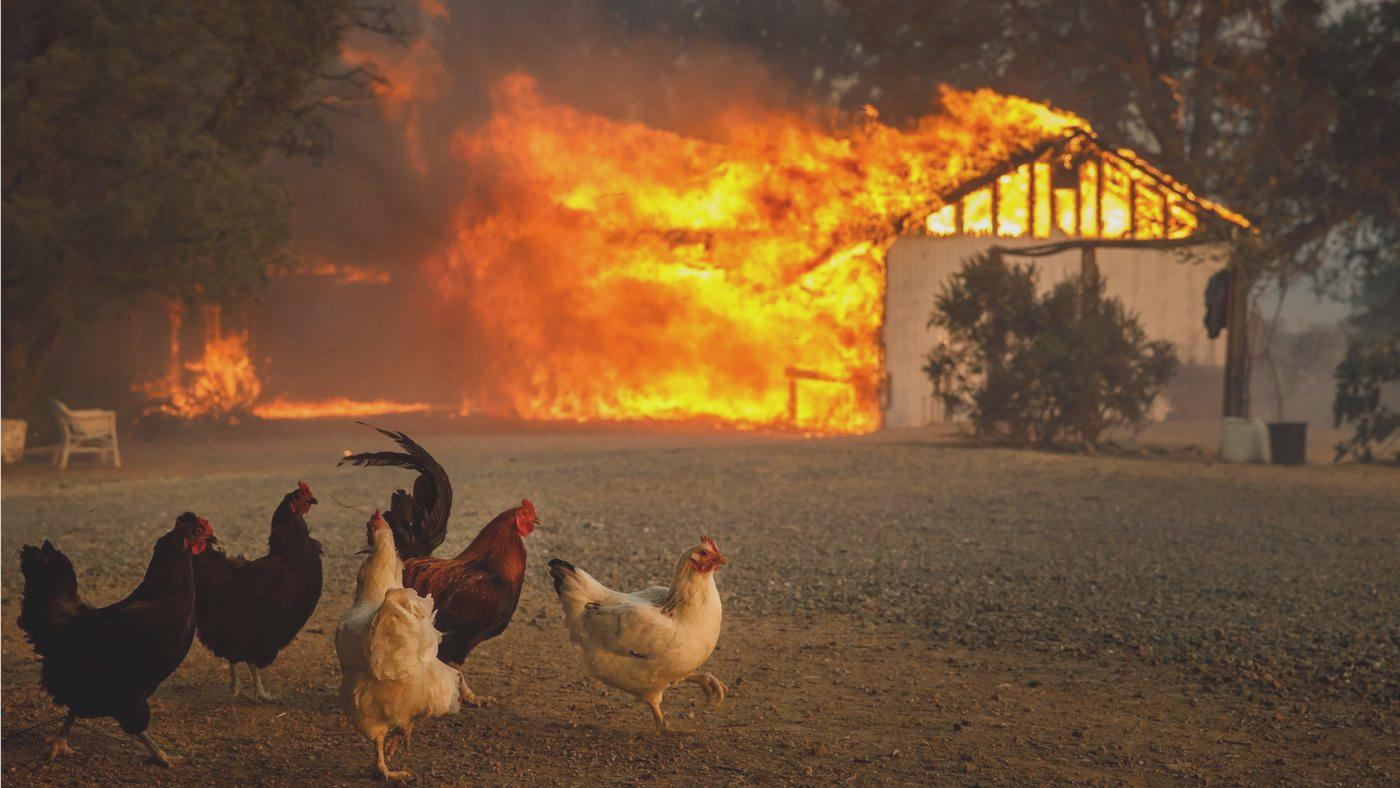Fire: (446, 30, 1285, 442), (139, 303, 442, 430)
